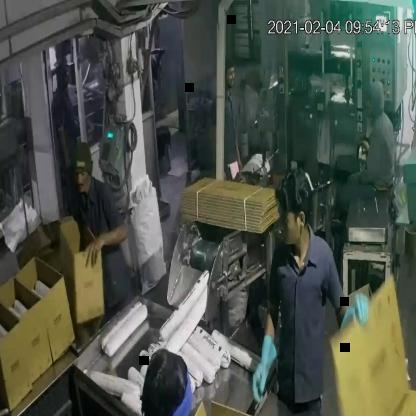glove: (247, 324, 285, 416)
no_glove: (83, 220, 130, 264), (54, 120, 74, 177)
